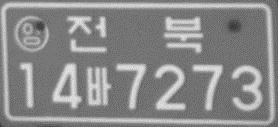1: (15, 60, 45, 110)
2: (153, 62, 186, 111)
3: (230, 63, 263, 112)
4: (51, 62, 82, 110)
7: (191, 62, 224, 112), (114, 62, 146, 111)
바: (85, 65, 111, 106)
영: (14, 15, 49, 53)
전북_D: (63, 12, 204, 56)
